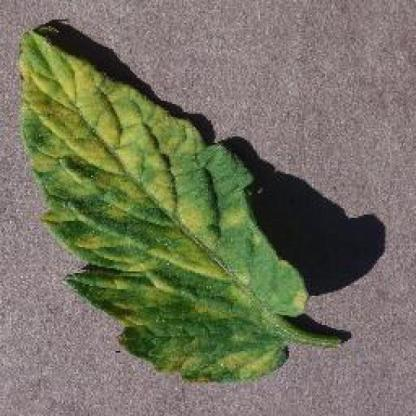Tomato_Leaf_Mold: (17, 30, 309, 376)
